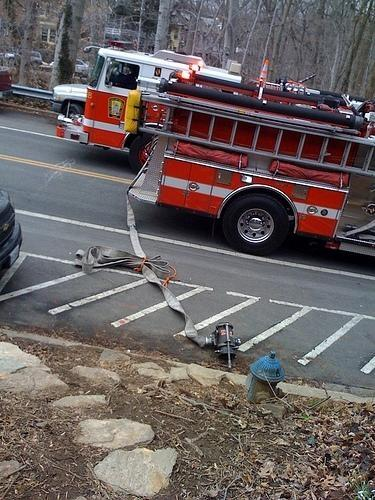car: (0, 58, 88, 273)
truck: (122, 70, 375, 260), (72, 48, 242, 158)
